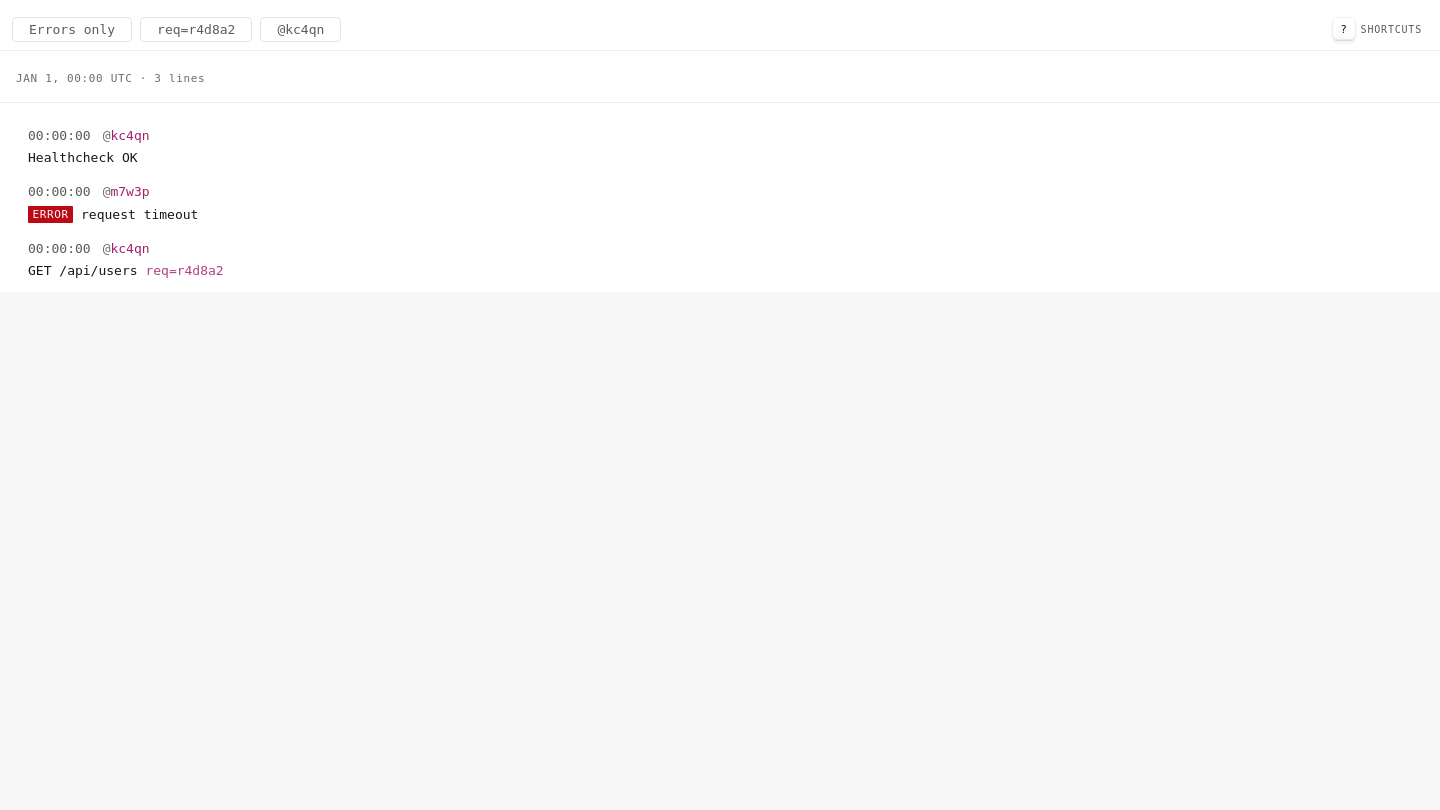
Scenario: LogExplorer › pressing Esc with the sheet open closes only the sheet
Click the button "req=r4d8a2": coordinates (196, 29) [140,16,252,42]
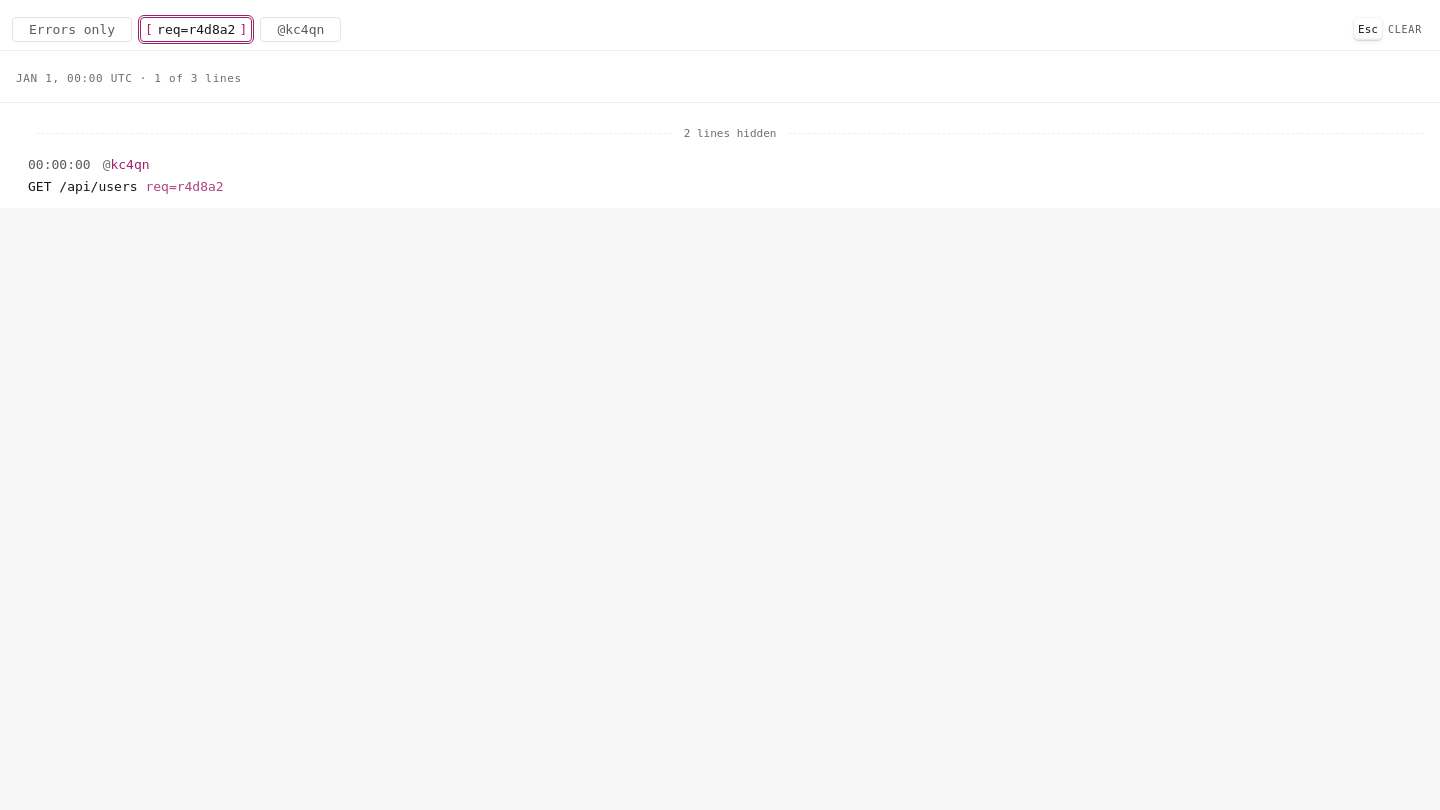
Click the text "GET /api/users": coordinates (83, 187) [28,179,138,194]
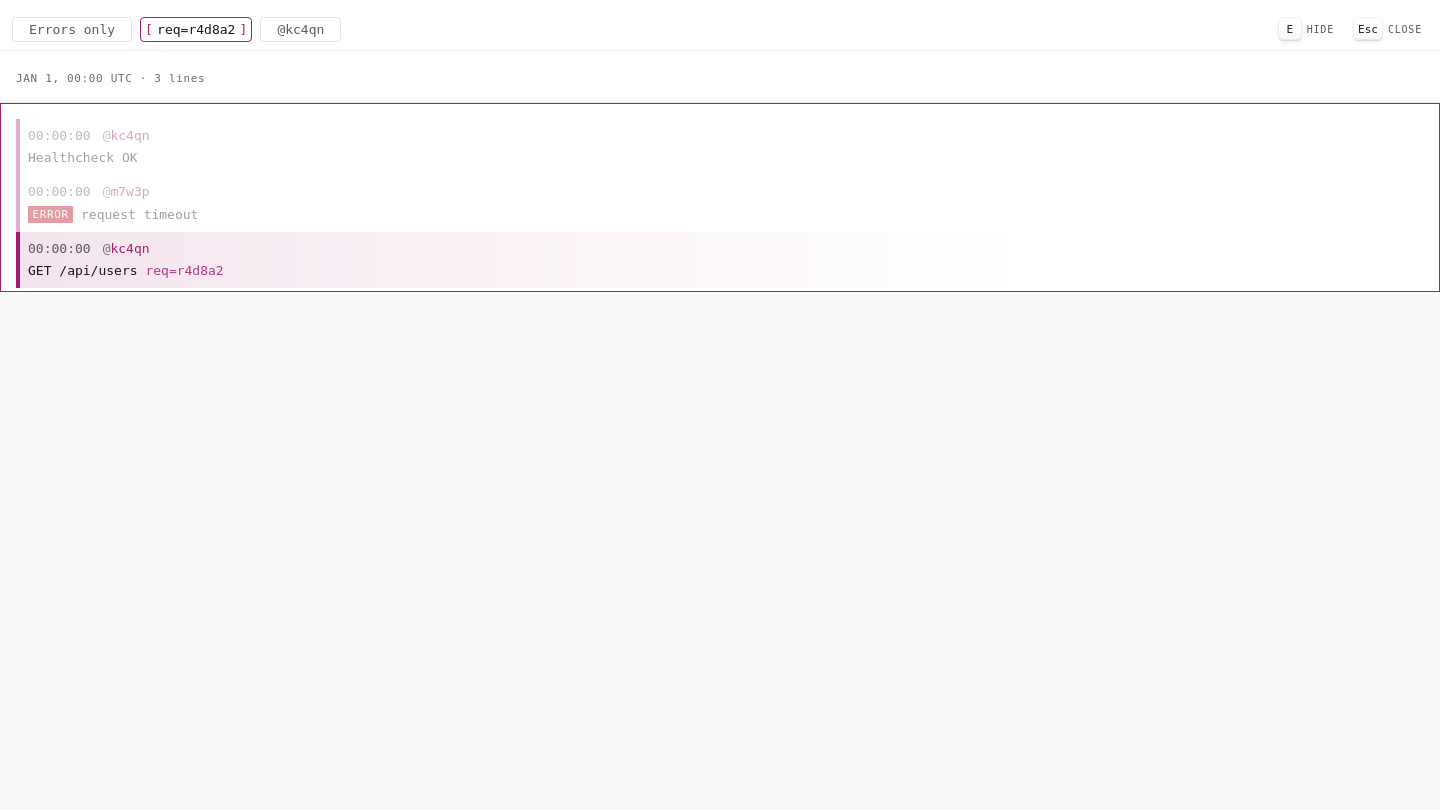
Expected: the option "00:00:00 @kc4qn GET /api/users req=r4d8a2" is shown, [16,232,1424,288]
Type keys "?"
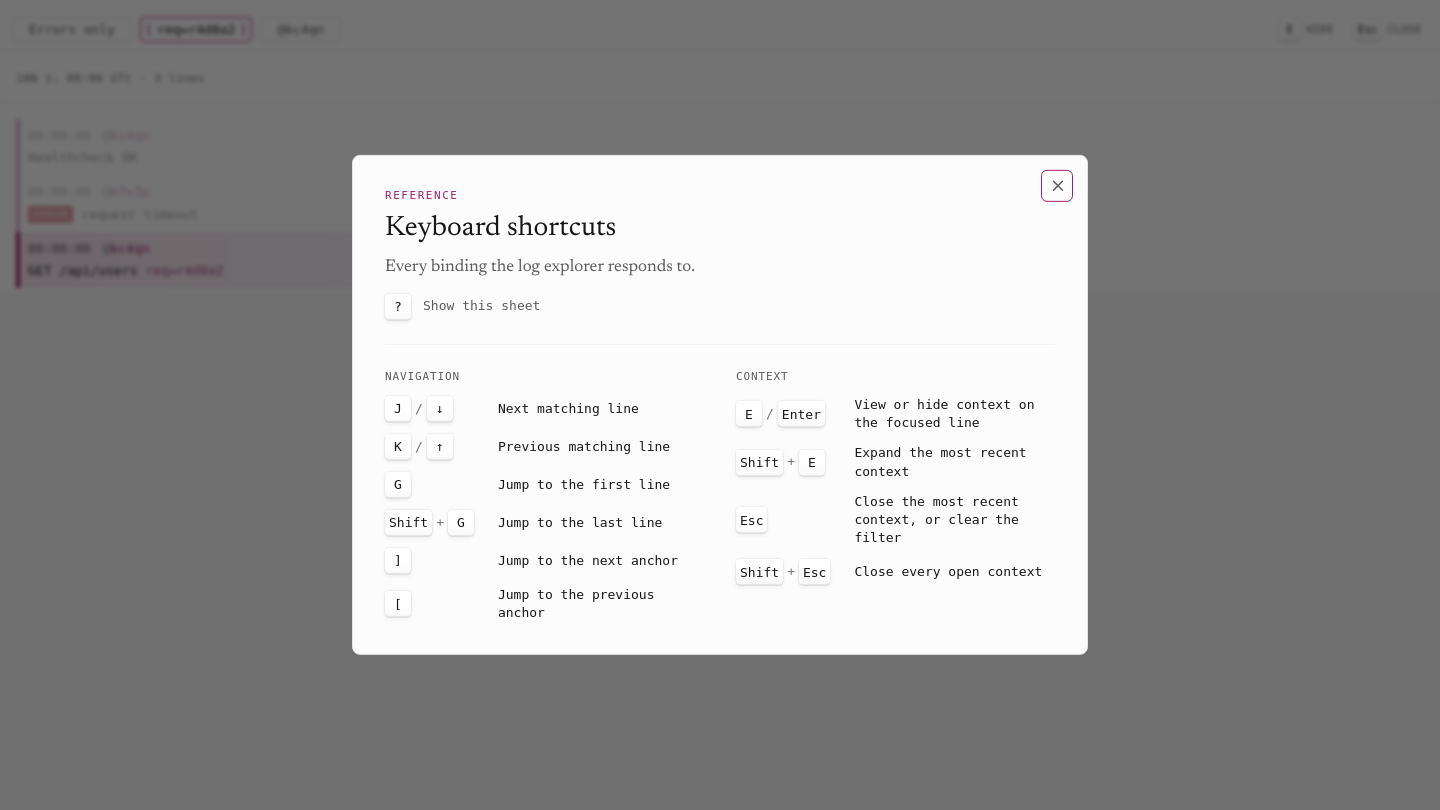
Expected: the heading "Keyboard shortcuts" is shown, [385,214,616,242]
Press Escape
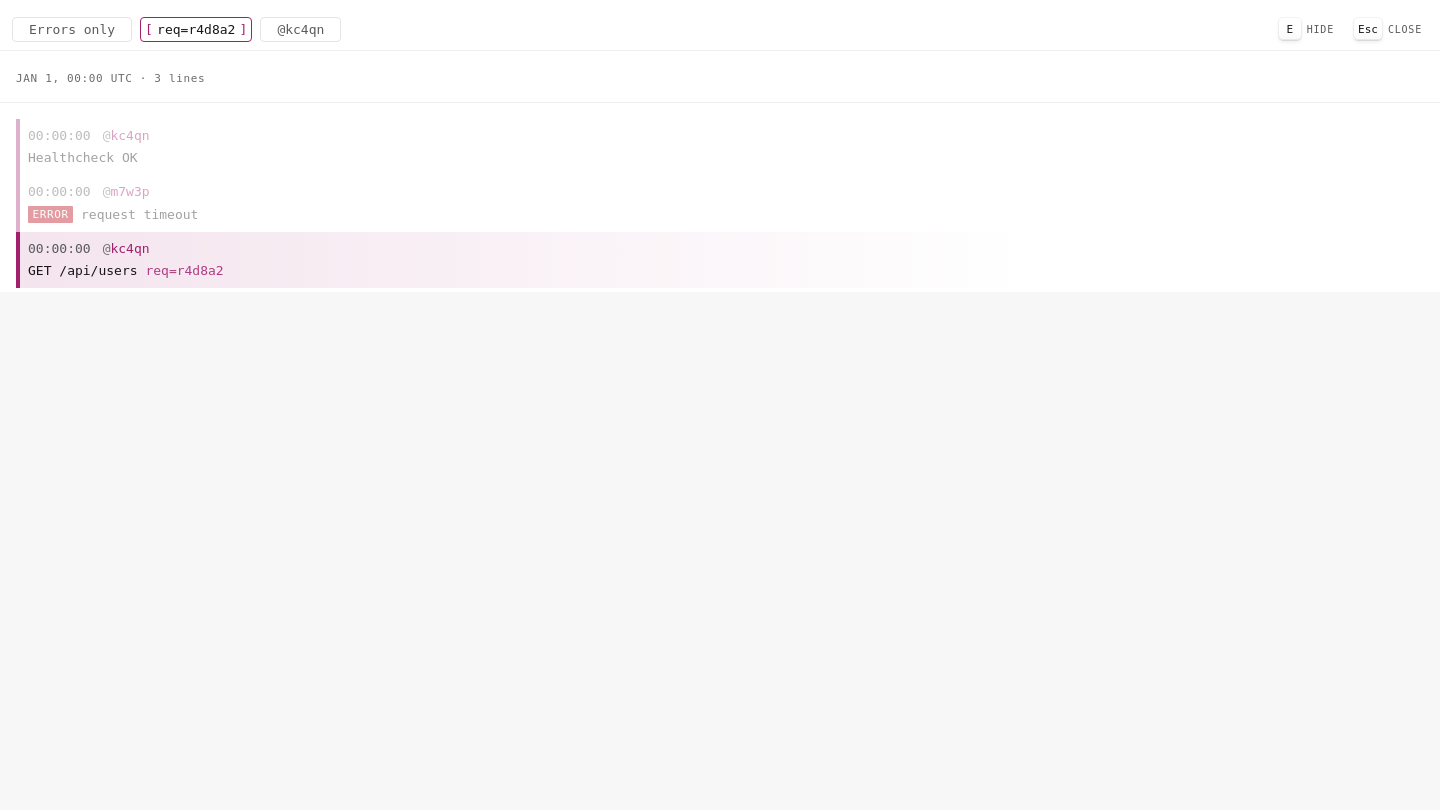
Expected: the option "00:00:00 @kc4qn GET /api/users req=r4d8a2" is shown, [16,232,1424,288]
Expected: the heading "Keyboard shortcuts" is gone
